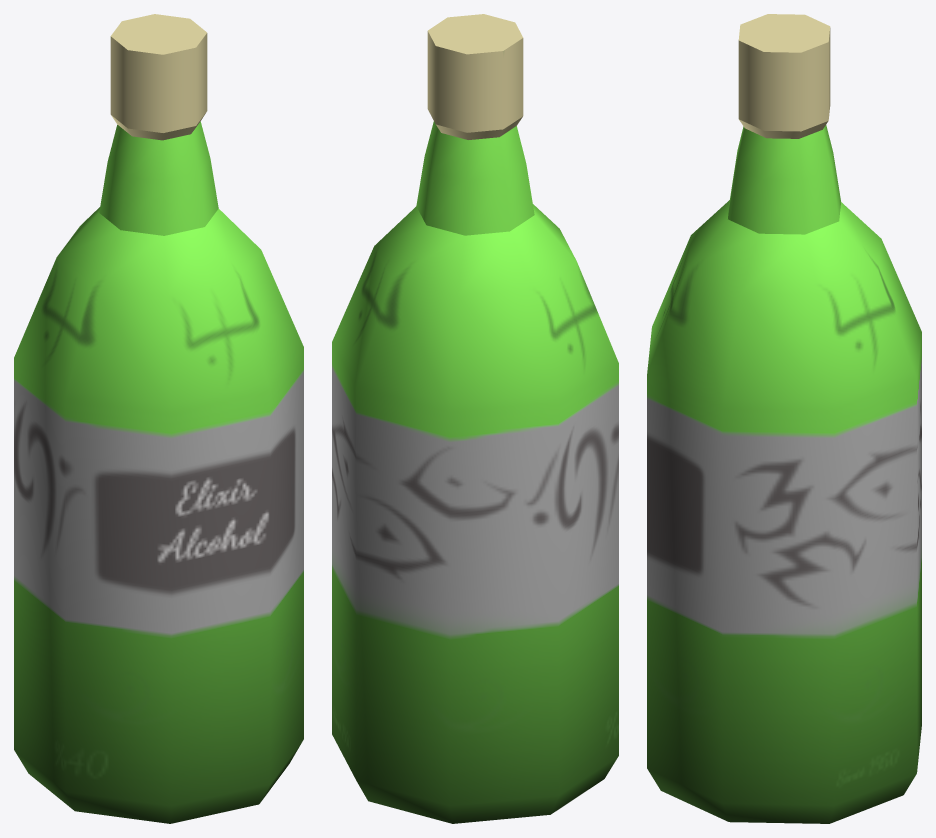
The model's file is Liquor_03.fbx.
The picture shows the model from 3 angles, left to right: view 1: azimuth 30°, elevation 25°; view 2: azimuth 150°, elevation 25°; view 3: azimuth 270°, elevation 25°; orthographic projection.
Parts seen in each view (by area): view 1: Liquor_03; view 2: Liquor_03; view 3: Liquor_03.
Boxes of the visible parts, x1,y1,x2,y2 form: Liquor_03: (14, 14, 303, 823); Liquor_03: (332, 14, 618, 823); Liquor_03: (647, 14, 921, 823).
Size of the model in its own units: 10.69 by 31.71 by 10.69.
